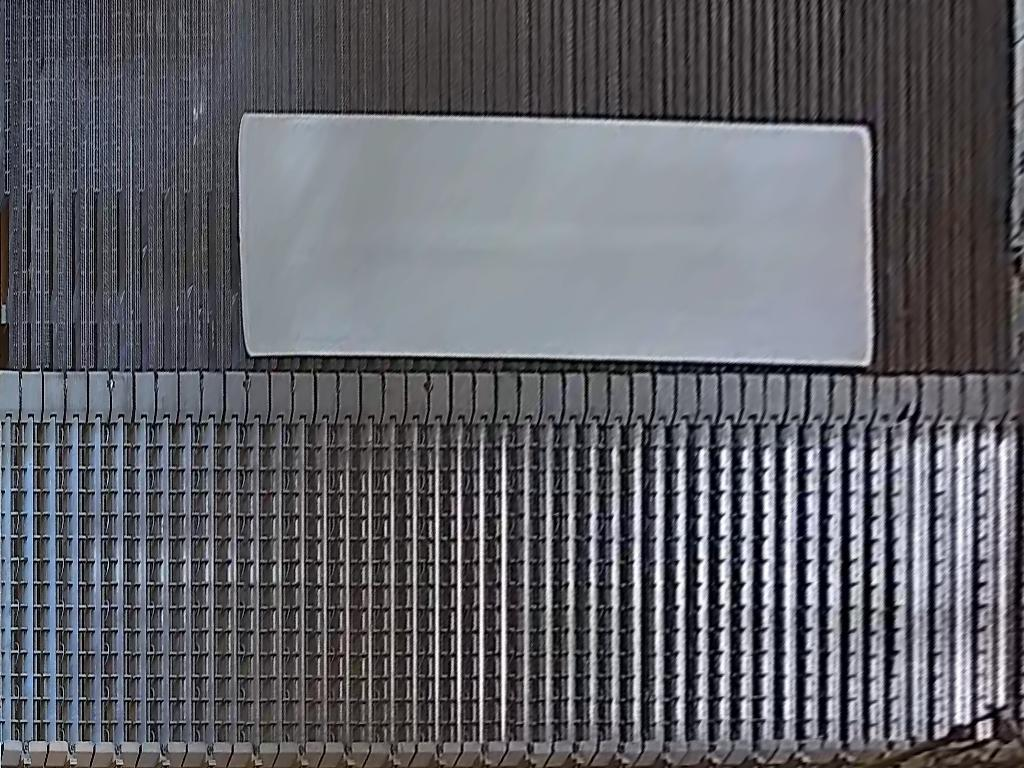steel: (238, 114, 875, 366)
